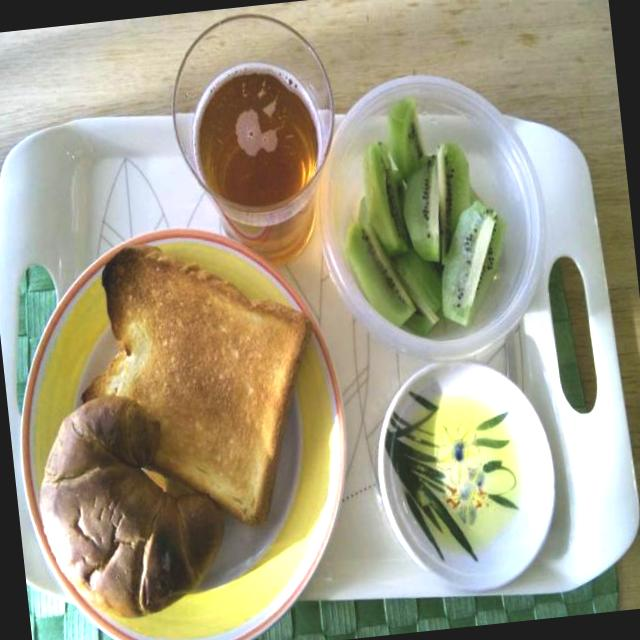Croissant: (20, 388, 243, 640)
